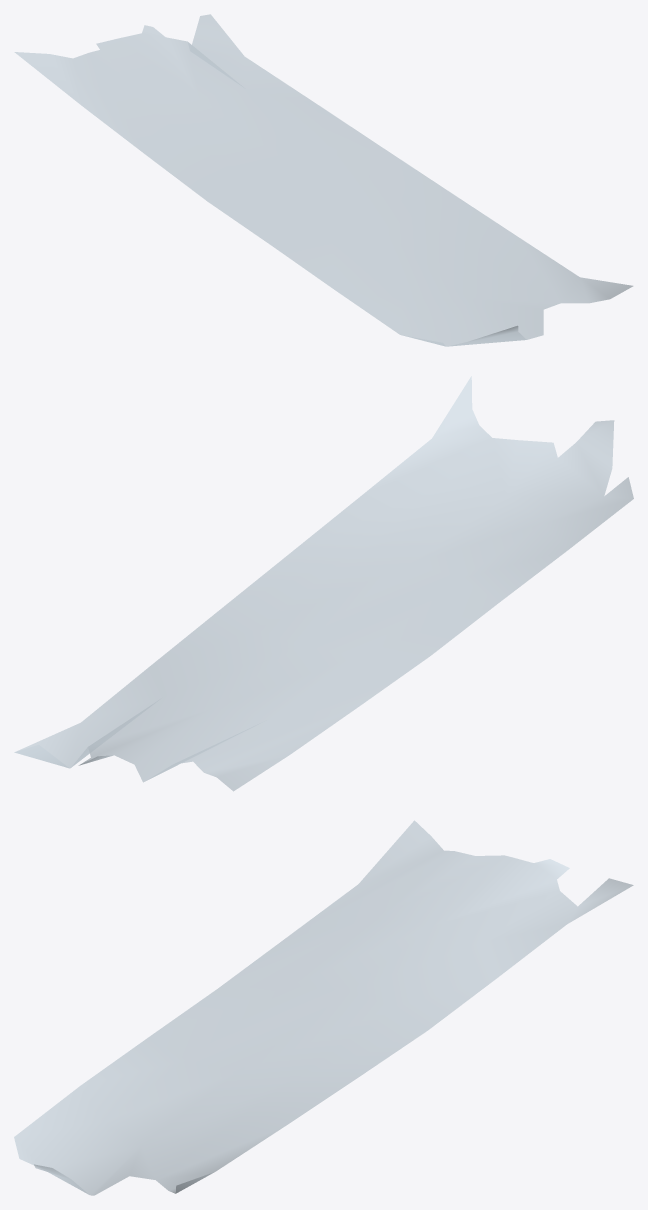
Rendered from tape.fbx.
3 views of the same model, one above another, from view 1: azimuth 30°, elevation 25°; view 2: azimuth 150°, elevation 25°; view 3: azimuth 330°, elevation 25° (orthographic). The views are drawn at different scales.
Parts seen in each view (by area): view 1: Plane; view 2: Plane; view 3: Plane.
Part boxes in pixels (x1,y1,x2,y2): Plane: (14,14,633,346); Plane: (14,376,633,791); Plane: (14,820,633,1195).
Bounding box in the file's own units: 106 × 26.05 × 384.
